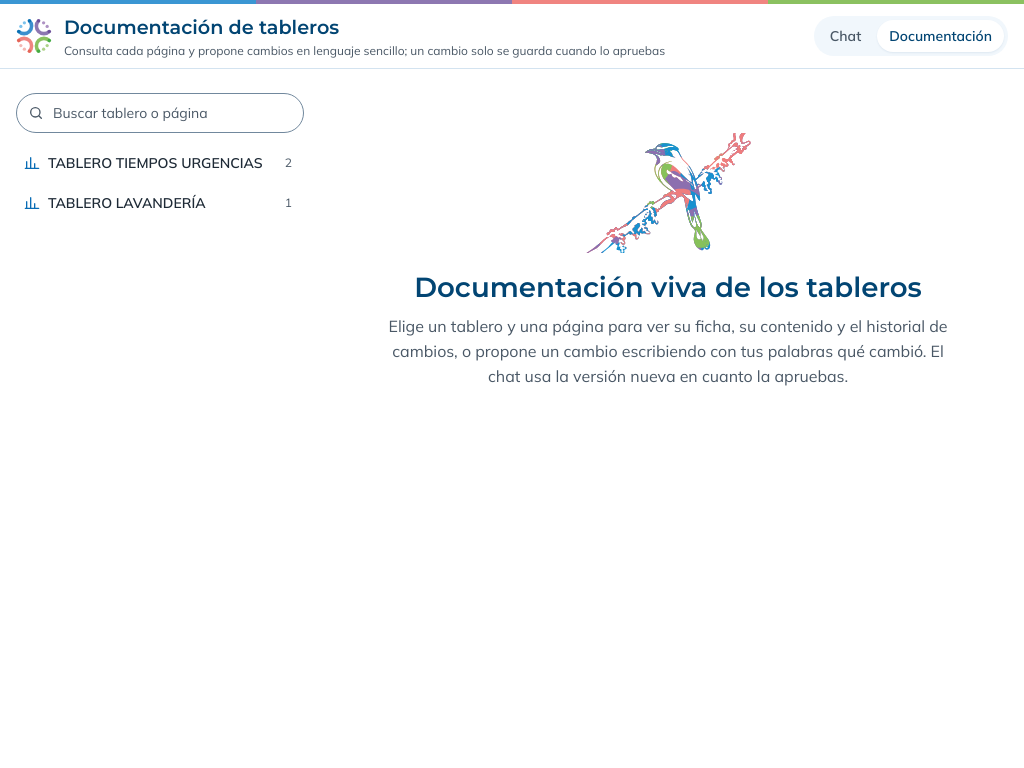
Documentación: proponer y revisar › explica un error del modelo con el detalle técnico plegado
Click the button "TABLERO TIEMPOS URGENCIAS 2": (158, 163) [16,145,300,181]
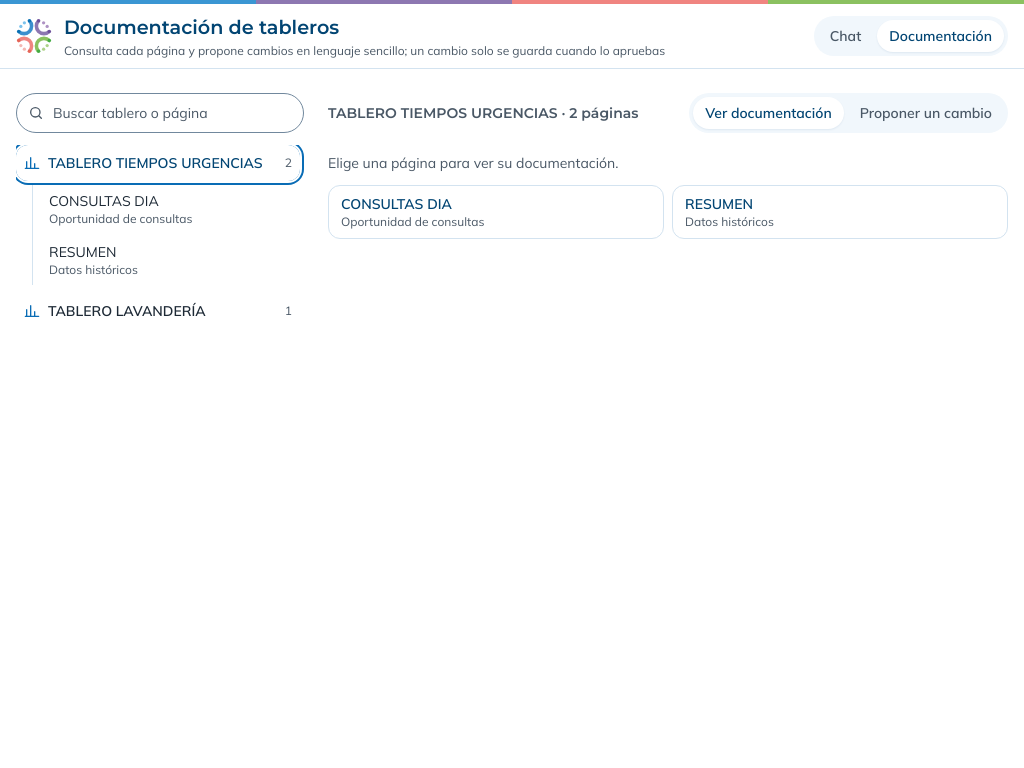
Click the 1st button "CONSULTAS DIA Oportunidad de consultas": (170, 209) [41,185,300,233]
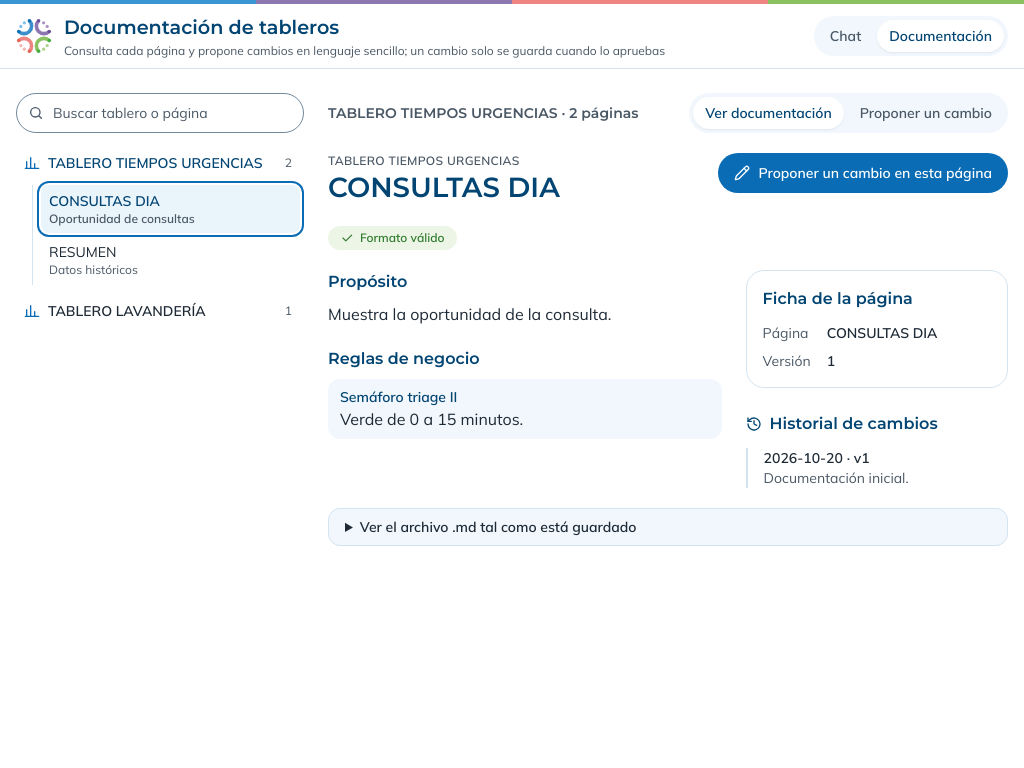
Expected: the heading "CONSULTAS DIA" is shown, [328,170,560,204]
Click the button "Proponer un cambio en esta página": (863, 173) [718,153,1008,193]
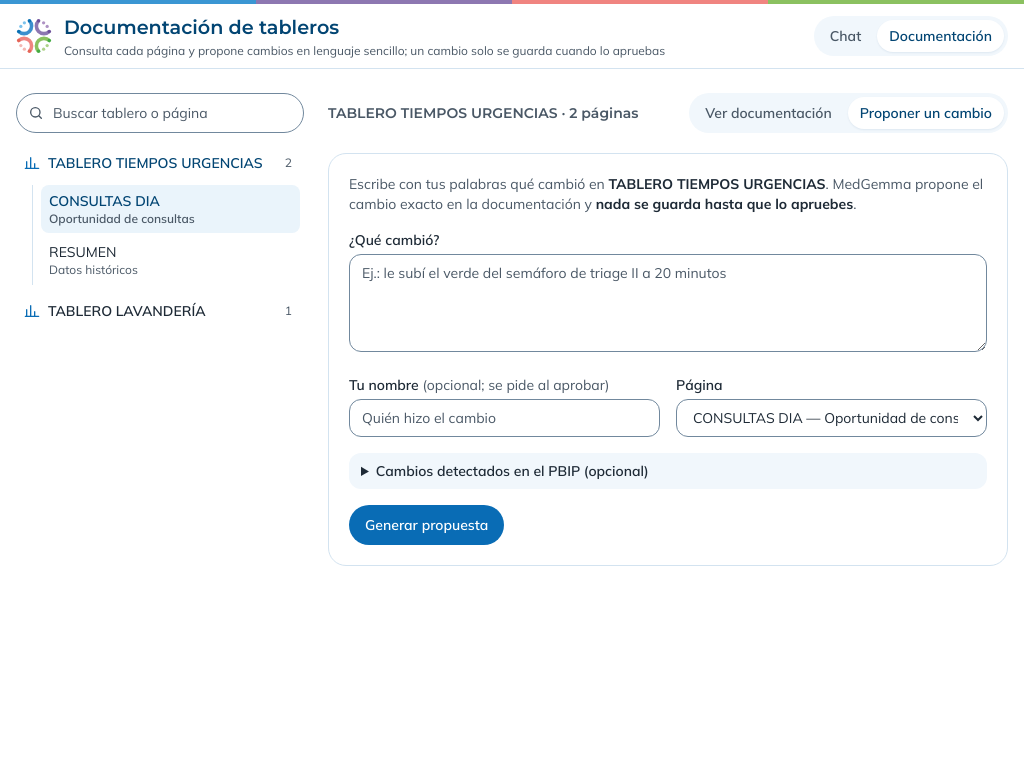
In the text box labelled "¿Qué cambió?": (668, 303) [349,254,987,352], type "esto falla"
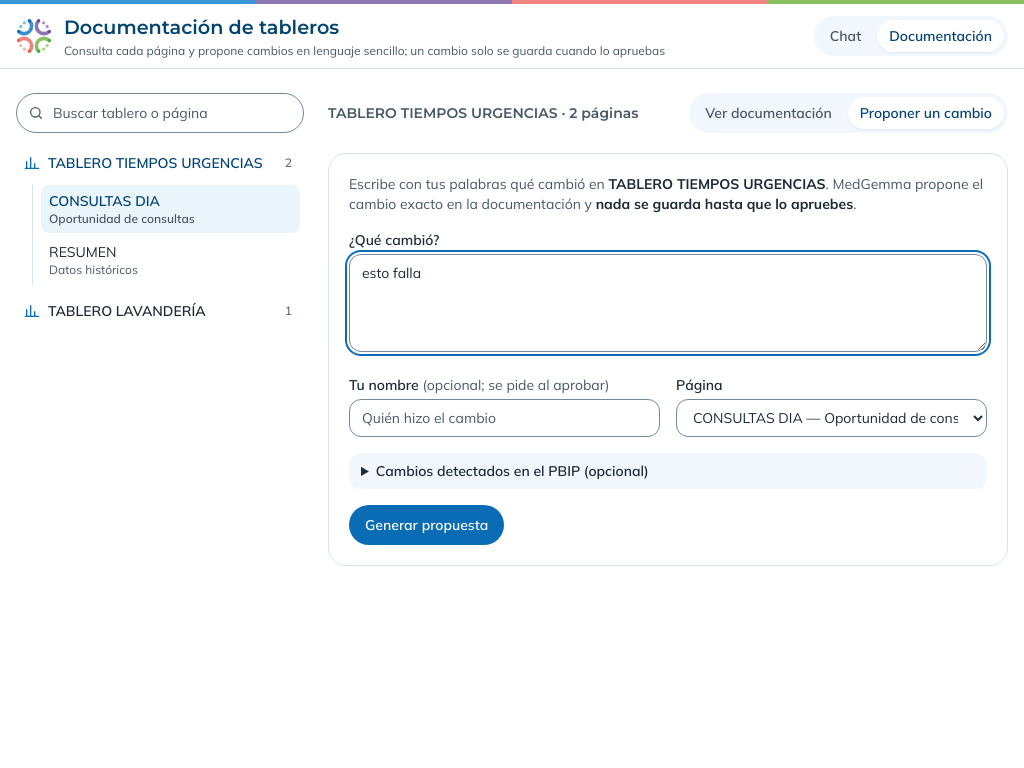
Click the button "Generar propuesta": (427, 525) [349,505,504,545]
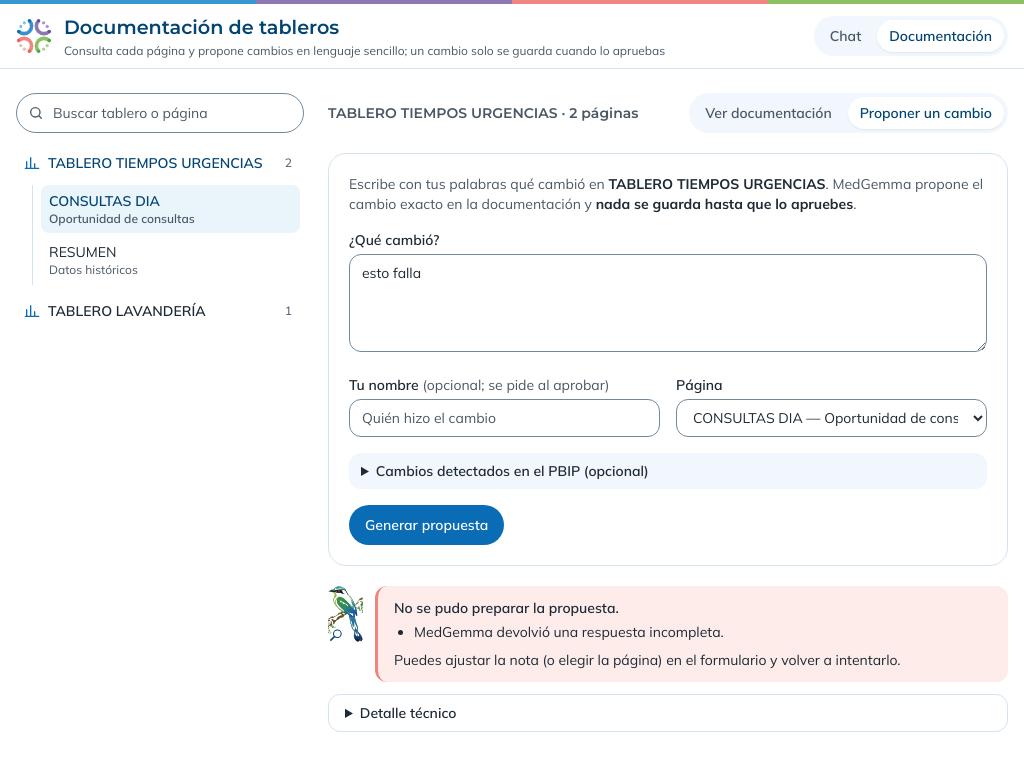
Expected: the text "No se pudo preparar la propuesta." is shown, [394,599,619,617]
Expected: the list item "MedGemma devolvió una respuesta incompleta." is shown, [414,623,724,641]
Expected: the heading "Detalle técnico" is shown, [360,704,456,722]
